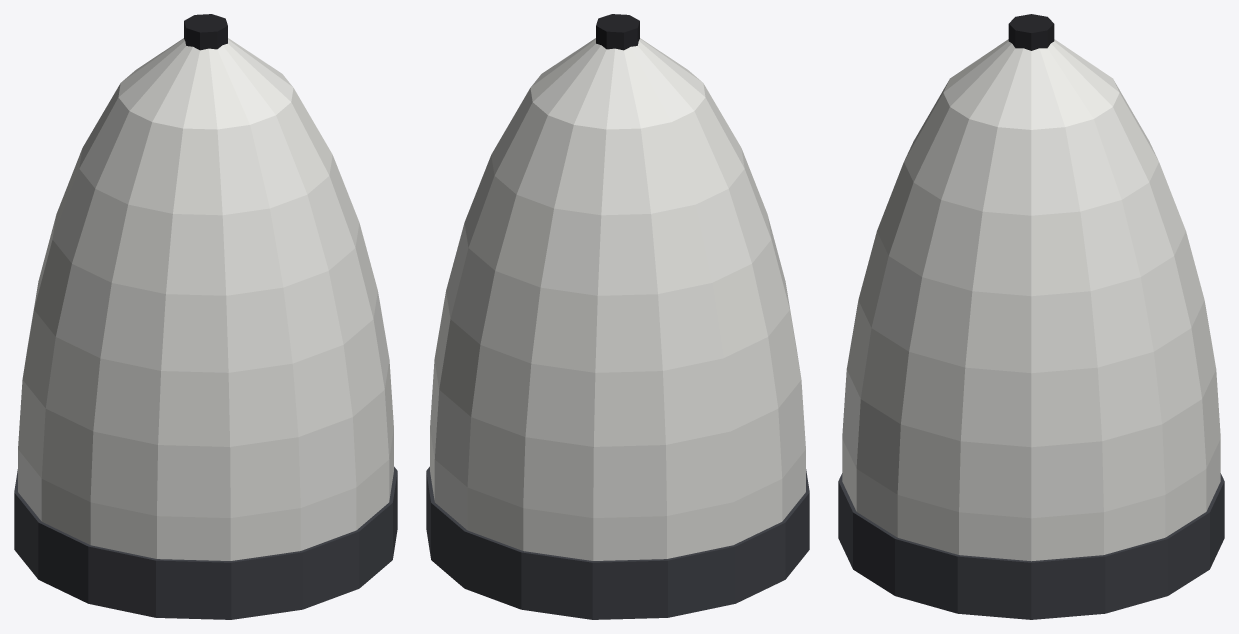
File: Head_Nose_S.fbx
The picture shows the model from 3 angles, left to right: view 1: azimuth 30°, elevation 25°; view 2: azimuth 150°, elevation 25°; view 3: azimuth 270°, elevation 25°; orthographic projection.
Visible parts, largest first — view 1: Head_Nose_S; view 2: Head_Nose_S; view 3: Head_Nose_S.
Part boxes in pixels (bbox=[...]): Head_Nose_S: bbox=[14, 14, 397, 619]; Head_Nose_S: bbox=[426, 14, 809, 619]; Head_Nose_S: bbox=[838, 14, 1224, 619].
Bounding box in the file's own units: 1.22 × 1.8 × 1.22.
1 material, 1 textured.
